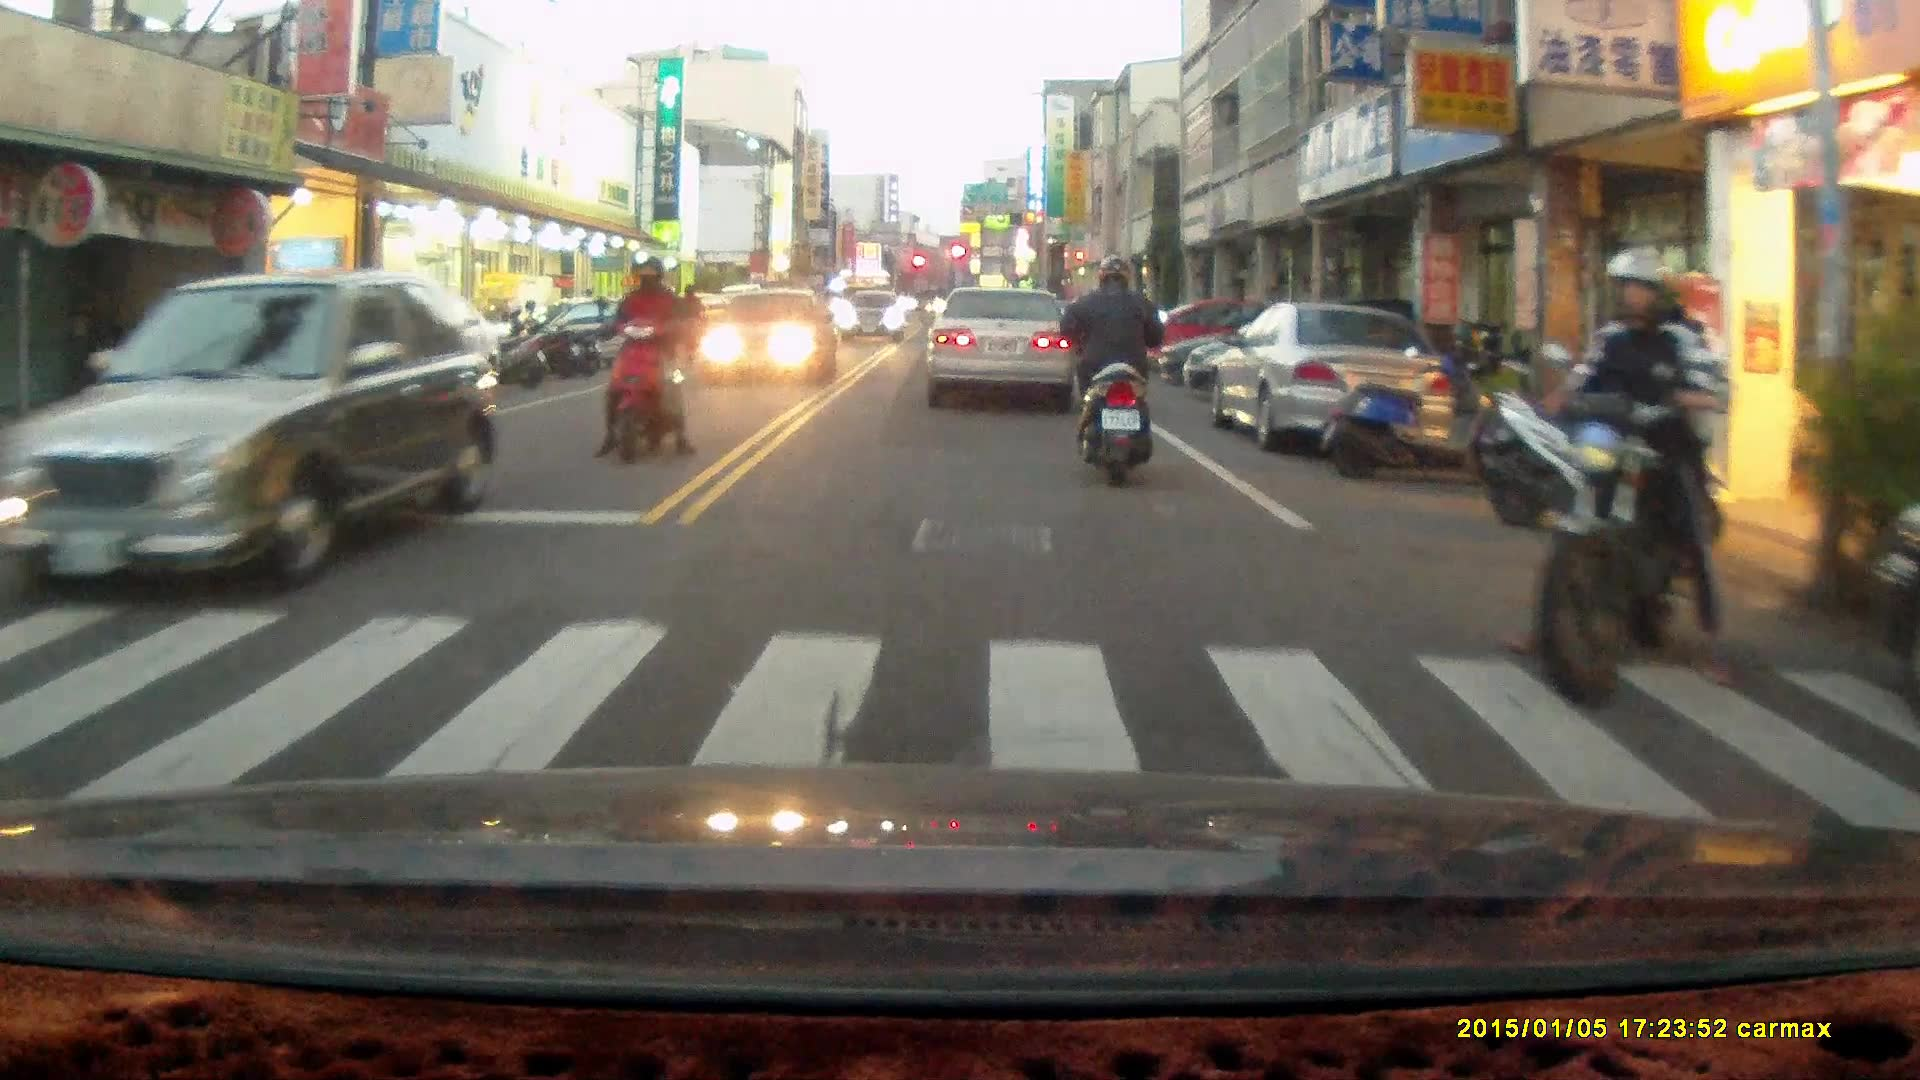pedestrian: (675, 281, 703, 357)
rider: (1518, 246, 1745, 704), (1061, 252, 1171, 484), (591, 252, 693, 466)
vehicle: (9, 268, 497, 605), (1214, 304, 1456, 457), (928, 287, 1082, 390), (697, 284, 837, 383), (835, 290, 911, 347)
